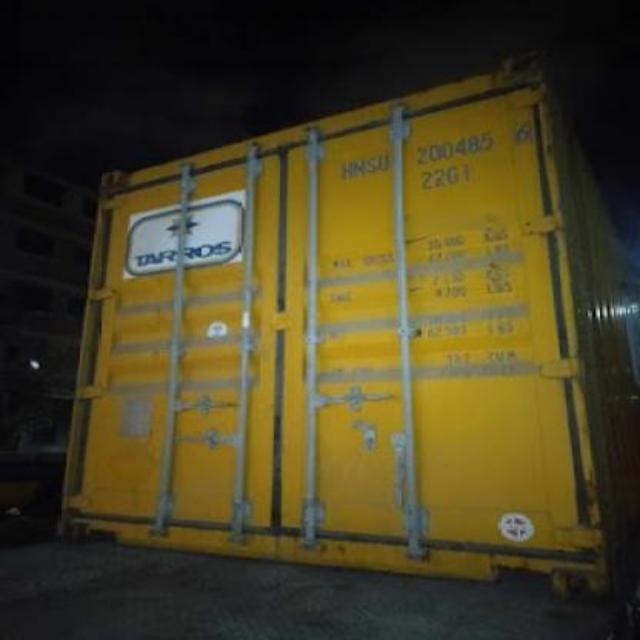0: (428, 143, 442, 161), (442, 142, 454, 160)
2: (414, 144, 430, 166)
4: (456, 138, 466, 154)
5: (480, 128, 496, 152)
6: (514, 121, 532, 141)
8: (468, 132, 480, 152)
H: (341, 161, 354, 179)
M: (352, 161, 368, 177)
S: (366, 156, 378, 172)
U: (378, 154, 392, 170)
